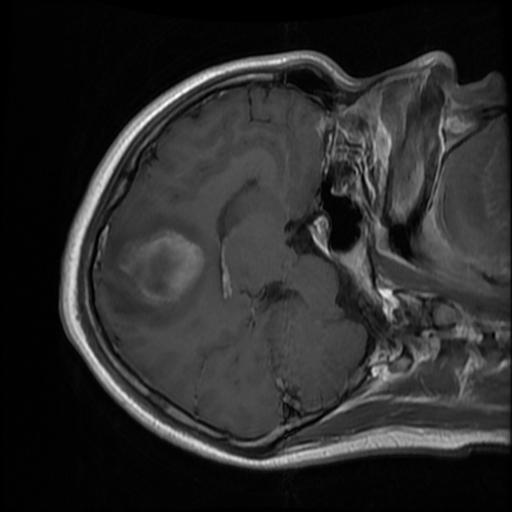glioma: (110, 227, 205, 307)
